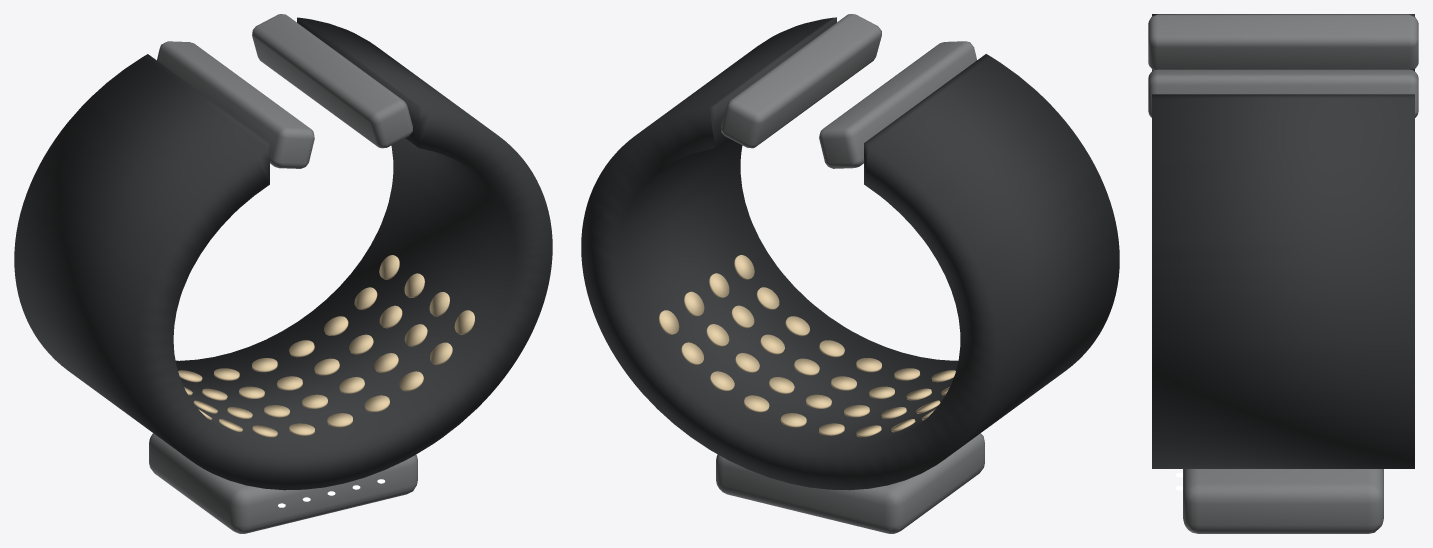
Rendered from touch.glb.
The picture shows the model from 3 angles, left to right: view 1: azimuth 30°, elevation 25°; view 2: azimuth 150°, elevation 25°; view 3: azimuth 270°, elevation 25°; orthographic projection. The views are drawn at different scales.
Parts seen in each view (by area): view 1: object 1; view 2: object 1; view 3: object 1.
Part boxes in pixels (left/top/right/bottom): object 1: left=14, top=14, right=552, bottom=533; object 1: left=581, top=14, right=1119, bottom=533; object 1: left=1148, top=14, right=1418, bottom=533.
Size of the model in its own units: 0.67 by 0.6352 by 0.35.
